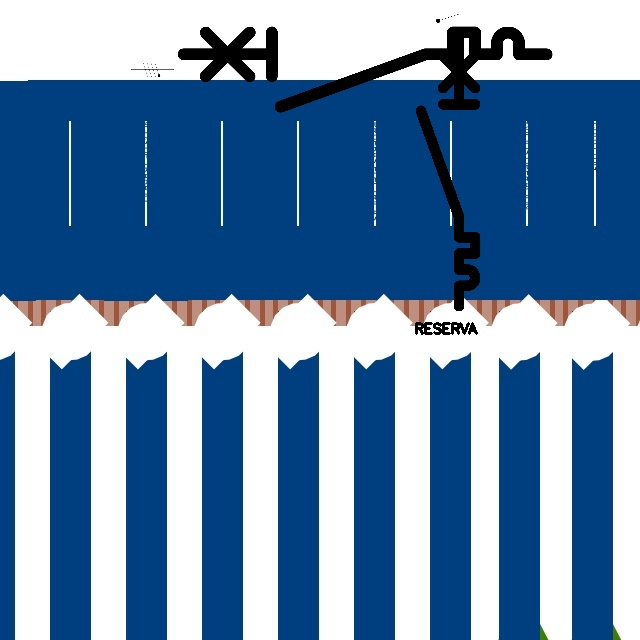interruptor_termomagnetico: (174, 23, 555, 116), (414, 32, 482, 312)
